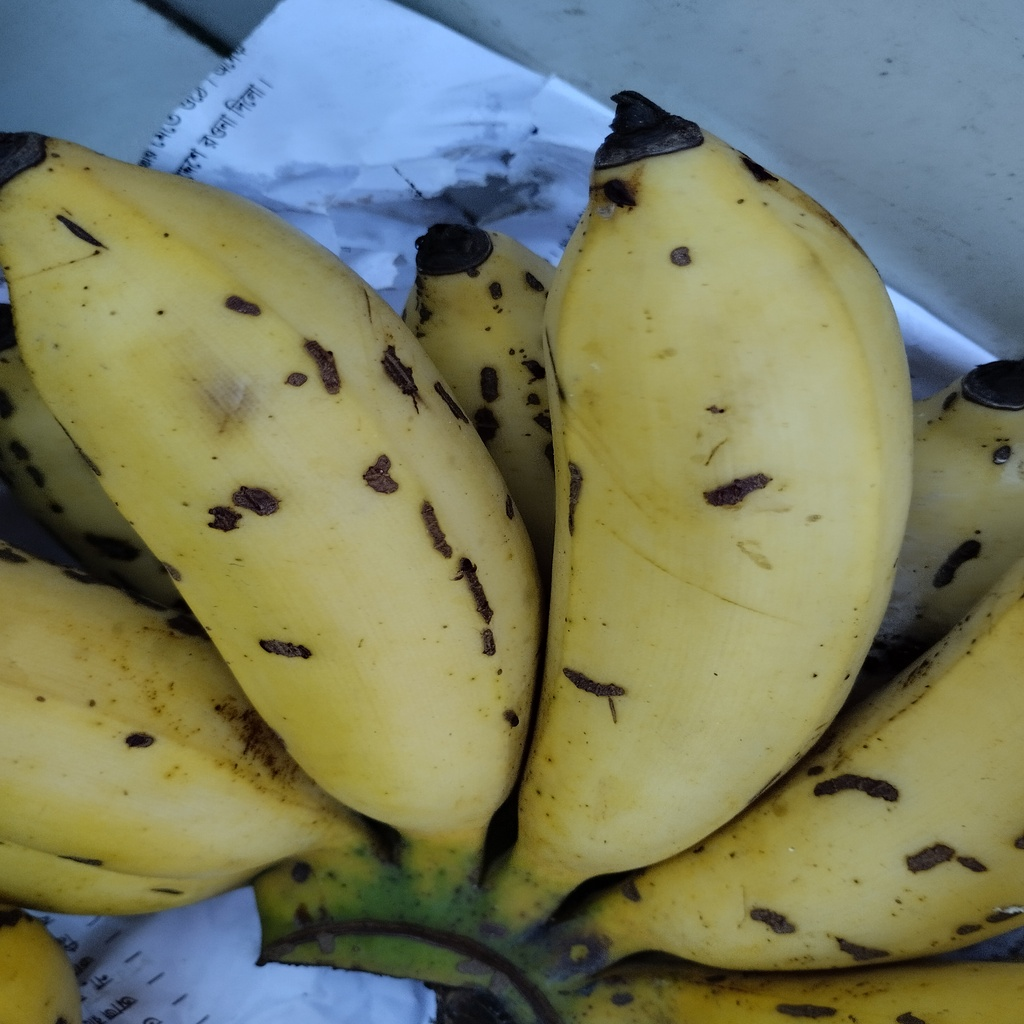unhealthy: (1, 137, 539, 826), (530, 107, 916, 860)
